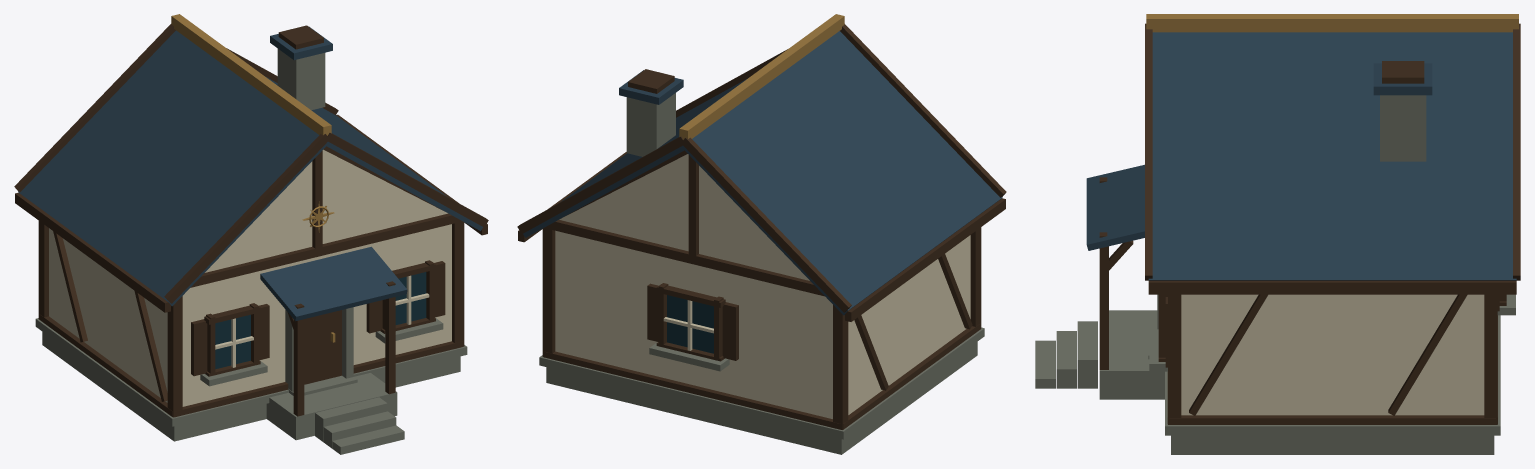
File: House_Cottage_LOD1.fbx
3 renders of one model, left to right at view 1: azimuth 30°, elevation 25°; view 2: azimuth 150°, elevation 25°; view 3: azimuth 270°, elevation 25°, orthographic. The views are drawn at different scales.
Visible parts, largest first — view 1: House_Cottage_Body; view 2: House_Cottage_Body; view 3: House_Cottage_Body.
Part boxes in pixels (x1=…): House_Cottage_Body: x1=14, y1=14, x2=488, y2=454; House_Cottage_Body: x1=517, y1=14, x2=1006, y2=454; House_Cottage_Body: x1=1035, y1=14, x2=1520, y2=454.
Bounding box in the file's own units: 7.81 × 6.64 × 8.28.
